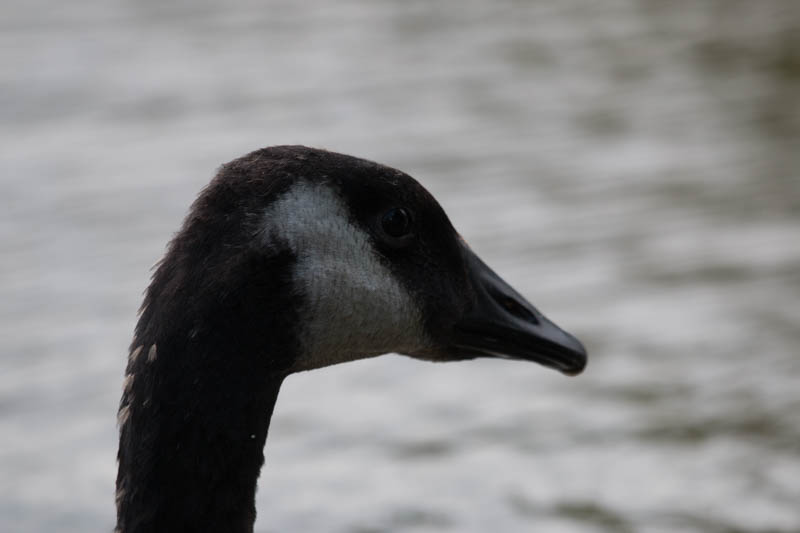goose-head: (133, 144, 587, 379)
